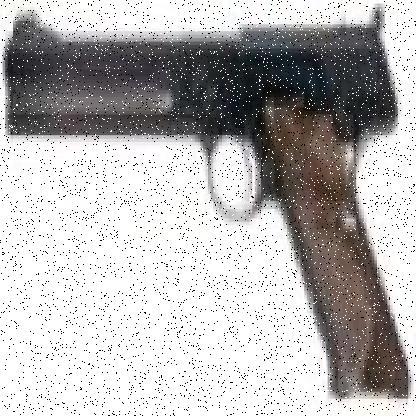pistol: (8, 14, 414, 399)
